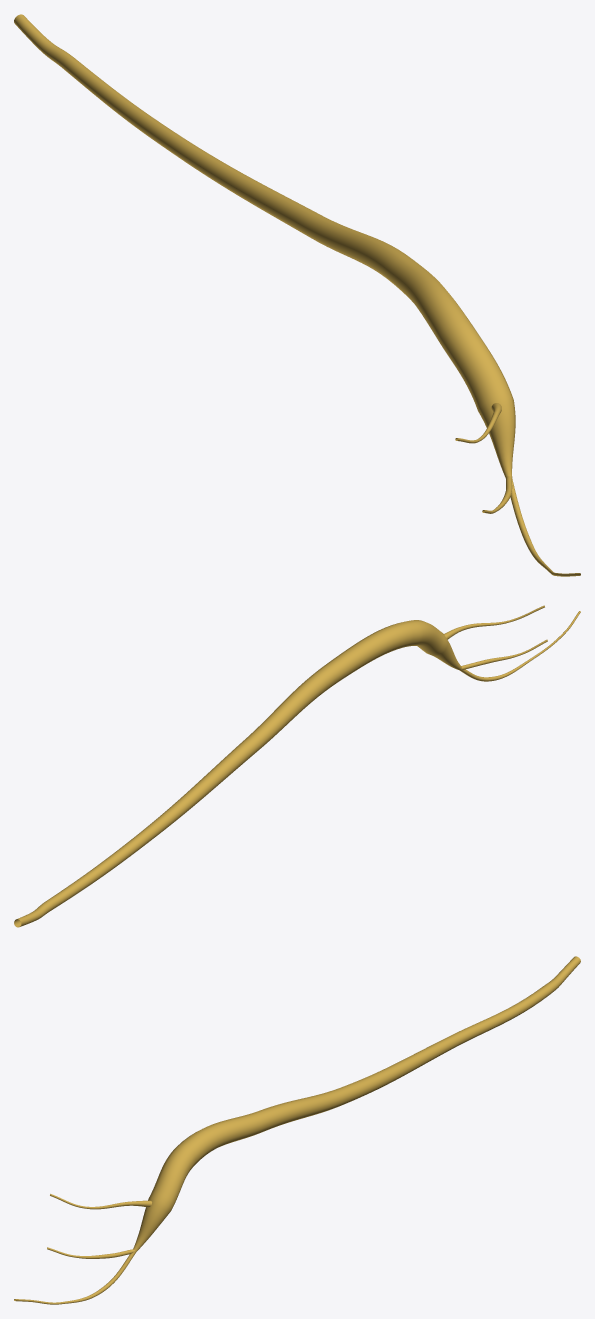
3 renders of one model, top to bottom at view 1: azimuth 30°, elevation 25°; view 2: azimuth 150°, elevation 25°; view 3: azimuth 330°, elevation 25°, orthographic. The views are drawn at different scales.
Visible parts, largest first — view 1: 左侧坐骨神经; view 2: 左侧坐骨神经; view 3: 左侧坐骨神经.
Boxes of the visible parts, <box> form: 左侧坐骨神经: <box>14,14,580,576</box>; 左侧坐骨神经: <box>14,605,580,927</box>; 左侧坐骨神经: <box>14,956,580,1304</box>.
Bounding box in the file's own units: 0.0936 × 0.0819 × 0.6459.
